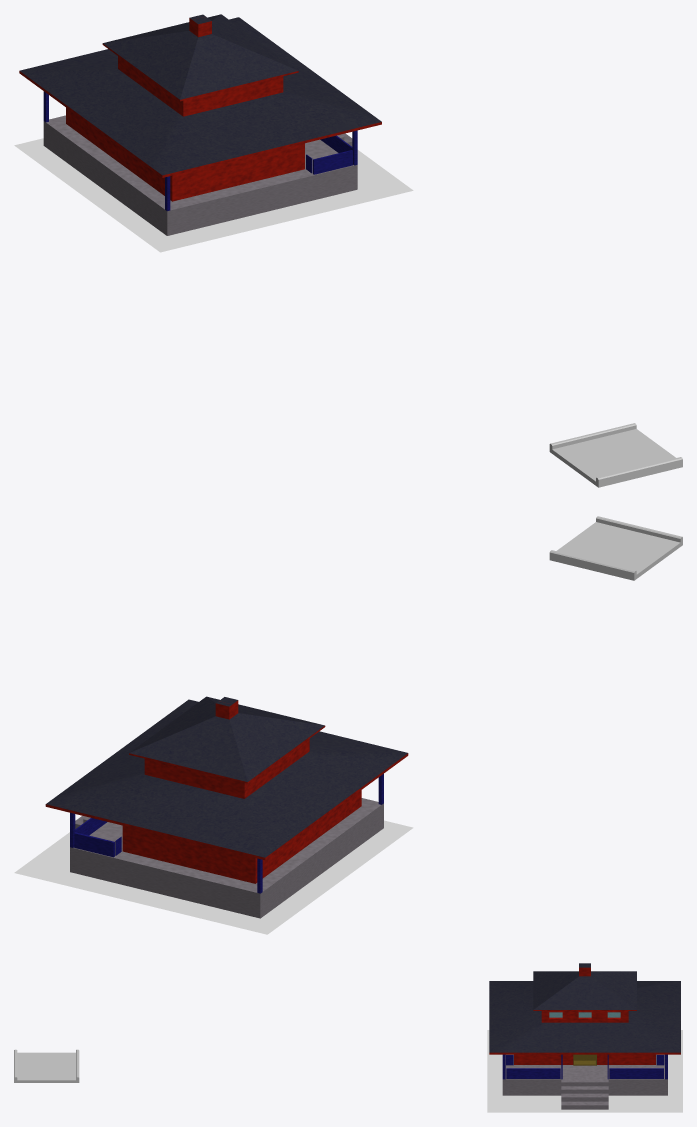
The picture shows the model from 3 angles, top to bottom: view 1: azimuth 30°, elevation 25°; view 2: azimuth 150°, elevation 25°; view 3: azimuth 270°, elevation 25°; orthographic projection. The views are drawn at different scales.
Parts seen in each view (by area): view 1: catı, merdiven, duvarlar, zemin, taslar, yol, balkon; view 2: catı, merdiven, duvarlar, zemin, taslar, yol, balkon; view 3: catı, merdiven, zemin, duvarlar, taslar, balkon, yol, kapı, camlar.
Part boxes in pixels (x1,y1,x2,y2): catı: (20, 14, 381, 175); merdiven: (43, 115, 357, 235); duvarlar: (19, 18, 381, 201); zemin: (14, 138, 413, 252); taslar: (552, 429, 675, 481); yol: (549, 423, 682, 487); balkon: (43, 91, 357, 211); catı: (46, 696, 407, 857); merdiven: (70, 798, 383, 918); duvarlar: (45, 700, 408, 883); zemin: (14, 820, 413, 934); taslar: (556, 522, 680, 574); yol: (549, 516, 682, 580); balkon: (70, 774, 383, 893); catı: (489, 963, 680, 1052); merdiven: (502, 1054, 667, 1109); zemin: (487, 1030, 682, 1112); duvarlar: (489, 967, 680, 1064); taslar: (17, 1052, 75, 1080); balkon: (502, 1054, 667, 1079); yol: (14, 1049, 79, 1082); kapı: (573, 1054, 596, 1065); camlar: (549, 1012, 620, 1017).
Size of the model in its own units: 600 by 344 by 2050.
